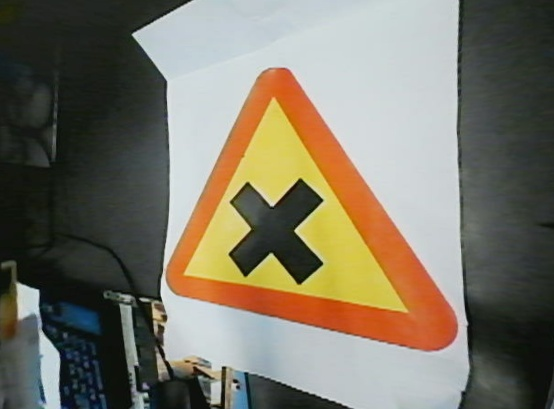junction: (136, 46, 464, 359)
